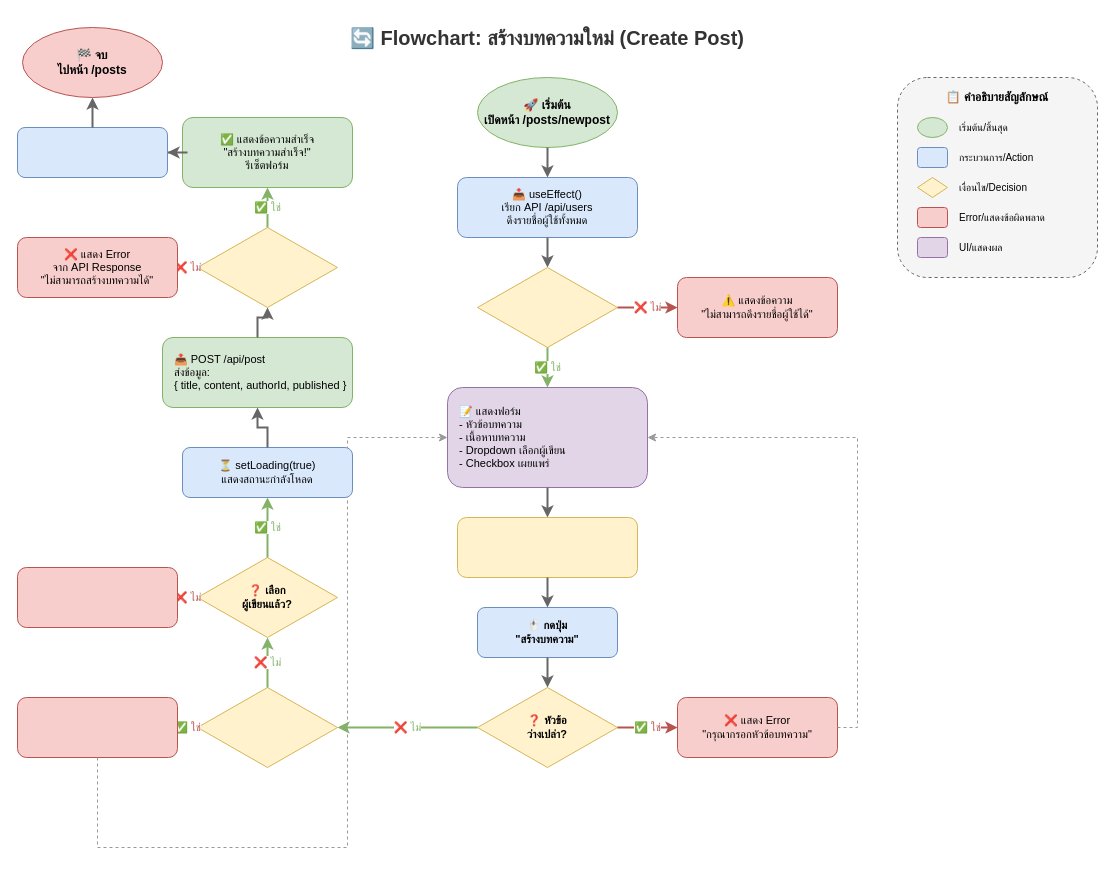
Image size: 1115x873. Some labels were removed from this diagram. The box of each missing label's shape, as (x1, y1, x2, y2) in pixels:
❌ แสดง Error "กรุณากรอกเนื้อหาบทความ": (16, 696, 178, 758)
❌ แสดง Error "กรุณาเลือกผู้เขียนบทความ": (16, 566, 178, 628)
❓ API สำเร็จ?: (196, 226, 338, 308)
❓ เนื้อหา ว่างเปล่า?: (196, 686, 338, 768)
❓ โหลดผู้ใช้ สำเร็จ?: (476, 266, 618, 348)
👤 ผู้ใช้กรอกข้อมูล และเลือก User ID ที่เป็นผู้สร้าง: (456, 516, 638, 578)
🔄 setTimeout 1.5 วินาที router.push('/posts'): (16, 126, 168, 178)
